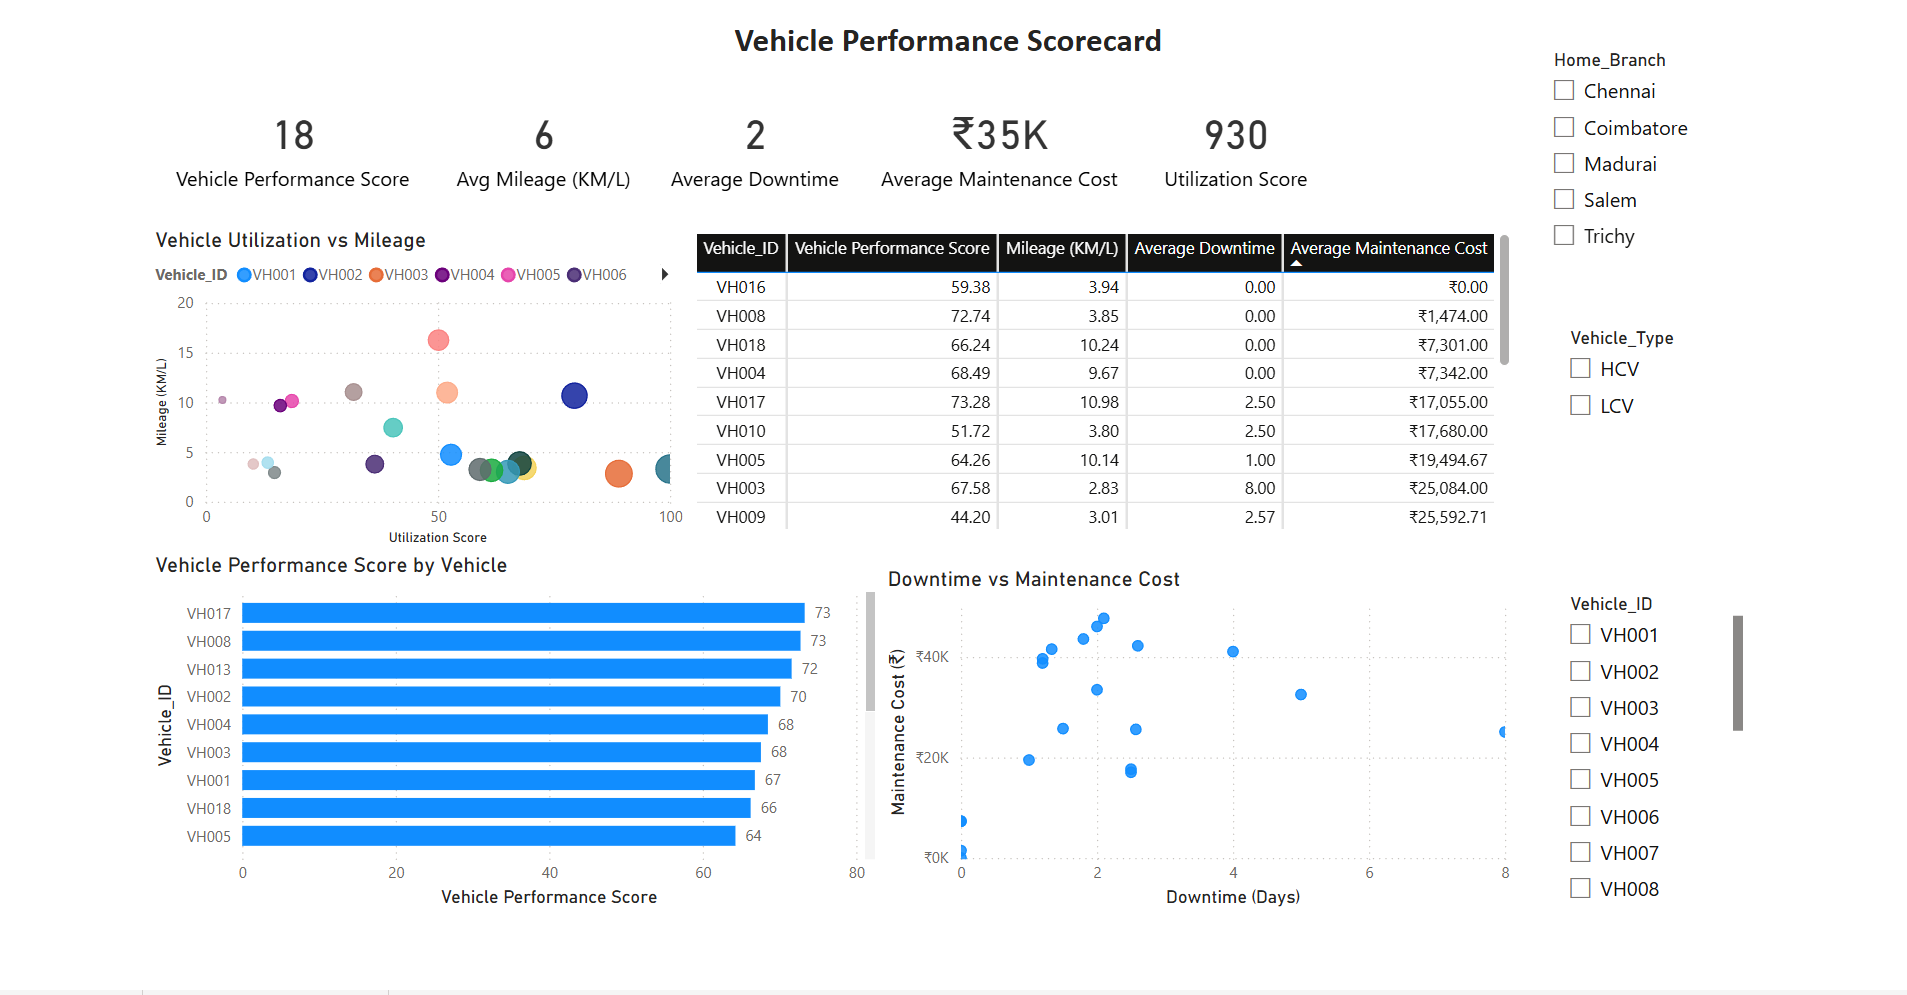

The page's visual inventory and layout, read from the dashboard file:
{"tool":"powerbi","page":{"name":"Page 8","canvas":[1280,720],"ordinal":7},"visuals":[{"type":"textbox","box":[457.3,0,364.4,47.7],"z":0},{"type":"advanceCardE03760C5AB684758B56AA29F9E6C257B","fields":{"mainMeasure":["Driver_Master.Vehicle Performance Score"]},"box":[0,47.7,231.1,122.3],"z":1000},{"type":"advanceCardE03760C5AB684758B56AA29F9E6C257B","fields":{"mainMeasure":["Driver_Master.Average Mileage"]},"box":[231.1,47.7,170,122.3],"z":2000},{"type":"advanceCardE03760C5AB684758B56AA29F9E6C257B","fields":{"mainMeasure":["Driver_Master.Average Downtime"]},"box":[401.1,47.7,168.8,122.3],"z":3000},{"type":"advanceCardE03760C5AB684758B56AA29F9E6C257B","fields":{"mainMeasure":["Driver_Master.Average Maintenance Cost"]},"box":[569.8,47.7,221.3,122.3],"z":4000},{"type":"advanceCardE03760C5AB684758B56AA29F9E6C257B","fields":{"mainMeasure":["Driver_Master.Utilization Score"]},"box":[791.2,47.7,156.5,122.3],"z":5000},{"type":"clusteredBarChart","title":"Vehicle Performance Score by Vehicle","fields":{"Category":["Vehicle_Master.Vehicle_ID"],"Y":["Driver_Master.Vehicle Performance Score"]},"box":[0,430.9,586,288.7],"z":6000},{"type":"scatterChart","title":"Vehicle Utilization vs Mileage","fields":{"Y":["Driver_Master.Mileage (KM/L)"],"Size":["Driver_Master.Total KM"],"X":["Driver_Master.Utilization Score"],"Series":["Vehicle_Master.Vehicle_ID"]},"box":[0,170.7,432.4,260.3],"z":7000},{"type":"tableEx","fields":{"Values":["Vehicle_Master.Vehicle_ID","Driver_Master.Vehicle Performance Score","Driver_Master.Mileage (KM/L)","Driver_Master.Average Downtime","Driver_Master.Average Maintenance Cost"]},"box":[432.4,172.1,661.3,246],"z":8000},{"type":"slicer","fields":{"Values":["Vehicle_Master.Vehicle_ID"]},"box":[1123.6,459.4,156.4,260.3],"z":9000},{"type":"slicer","fields":{"Values":["Vehicle_Master.Vehicle_Type"]},"box":[1123.6,246,130.8,149.3],"z":10000},{"type":"slicer","fields":{"Values":["Vehicle_Master.Home_Branch"]},"box":[1110.8,24.2,157.9,184.9],"z":11000},{"type":"scatterChart","title":"Downtime vs Maintenance Cost","fields":{"X":["Driver_Master.Average Downtime"],"Y":["Driver_Master.Average Maintenance Cost"],"Category":["Vehicle_Master.Vehicle_ID"]},"box":[586,442.3,507.7,277.3],"z":12000}]}

Visuals, with their boxes on the page's 1280x720 design canvas (x1, y1, x2, y2). These are canvas units, not pixel positions in the 1907x995 screenshot, which may show the page scaled, cropped or inside an application window:
textbox: pyautogui.locateOnScreen(457, 0, 822, 48)
advanceCardE03760C5AB684758B56AA29F9E6C257B - Driver_Master.Vehicle Performance Score: pyautogui.locateOnScreen(0, 48, 231, 170)
advanceCardE03760C5AB684758B56AA29F9E6C257B - Driver_Master.Average Mileage: pyautogui.locateOnScreen(231, 48, 401, 170)
advanceCardE03760C5AB684758B56AA29F9E6C257B - Driver_Master.Average Downtime: pyautogui.locateOnScreen(401, 48, 570, 170)
advanceCardE03760C5AB684758B56AA29F9E6C257B - Driver_Master.Average Maintenance Cost: pyautogui.locateOnScreen(570, 48, 791, 170)
advanceCardE03760C5AB684758B56AA29F9E6C257B - Driver_Master.Utilization Score: pyautogui.locateOnScreen(791, 48, 948, 170)
"Vehicle Performance Score by Vehicle" clusteredBarChart: pyautogui.locateOnScreen(0, 431, 586, 720)
"Vehicle Utilization vs Mileage" scatterChart: pyautogui.locateOnScreen(0, 171, 432, 431)
tableEx - Vehicle_Master.Vehicle_ID x Driver_Master.Vehicle Performance Score: pyautogui.locateOnScreen(432, 172, 1094, 418)
slicer - Vehicle_Master.Vehicle_ID: pyautogui.locateOnScreen(1124, 459, 1280, 720)
slicer - Vehicle_Master.Vehicle_Type: pyautogui.locateOnScreen(1124, 246, 1254, 395)
slicer - Vehicle_Master.Home_Branch: pyautogui.locateOnScreen(1111, 24, 1269, 209)
"Downtime vs Maintenance Cost" scatterChart: pyautogui.locateOnScreen(586, 442, 1094, 720)
